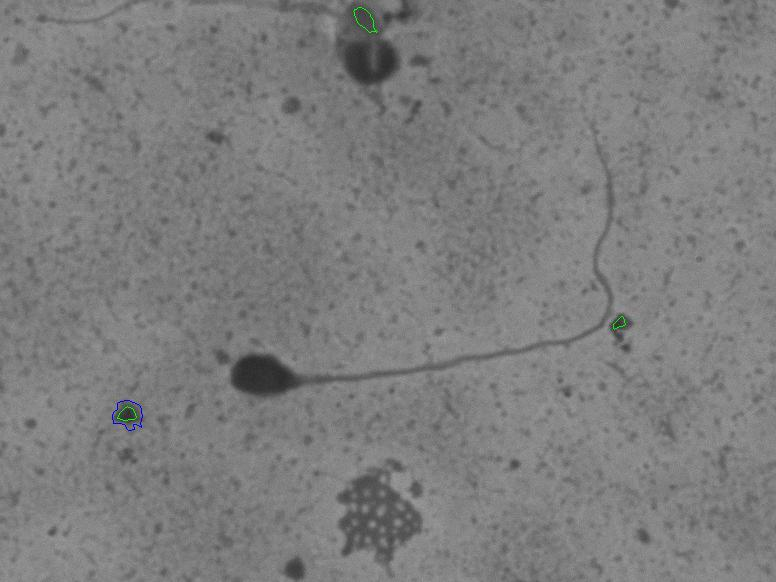Abnormal: (192, 105, 666, 422)
